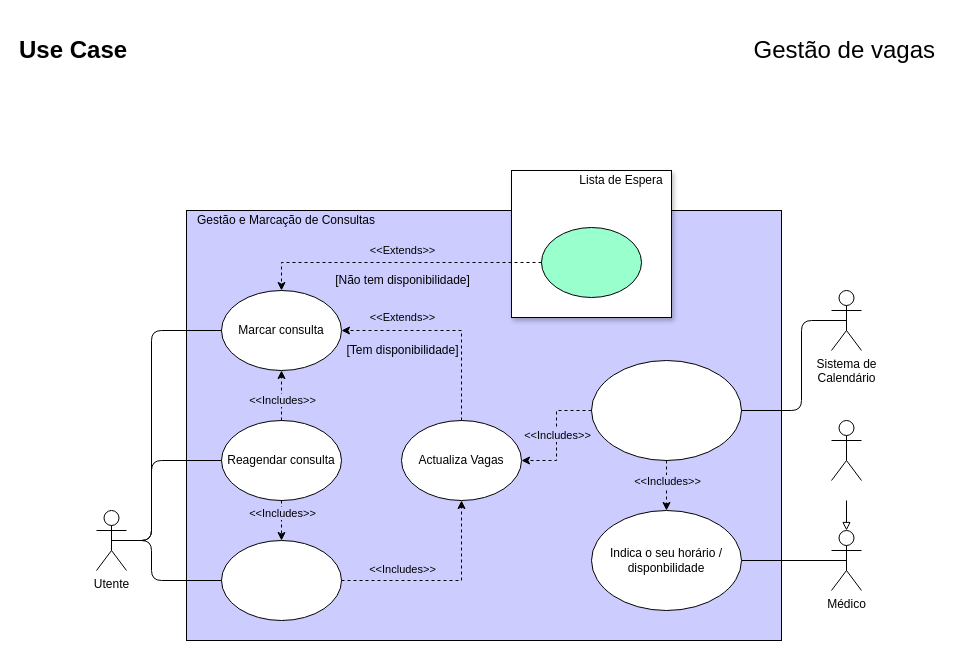
Image size: 954x658. Some labels were removed from this diagram. The shapes that lost their labels are listed below. From the top down, each one's centre as x and y in pixels, then its label:
pixel 591 262: Pedido de lista de espera
pixel 666 410: Organiza vagas para o próximo mês
pixel 846 450: Especialista
pixel 281 580: Cancelar consulta
